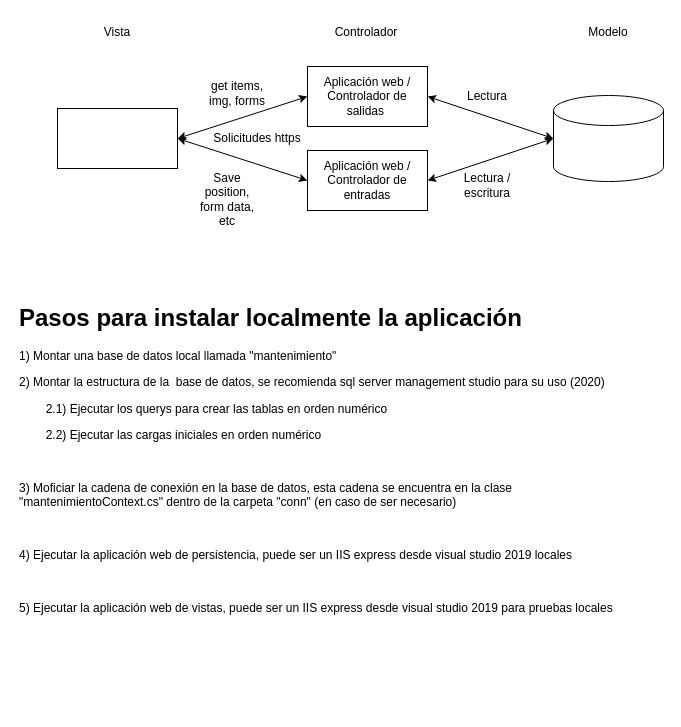
Some shapes in this 681 by 727 pixel diagram are drawn without their labels. The shapes that lost their labels are listed below. From the top down, each one's box as (x1, y1, x2, y2) in pixels, then its label:
(56, 108, 178, 168): Vista dashboard, forms de registro etc
(552, 94, 664, 182): db sql mantenimiento
